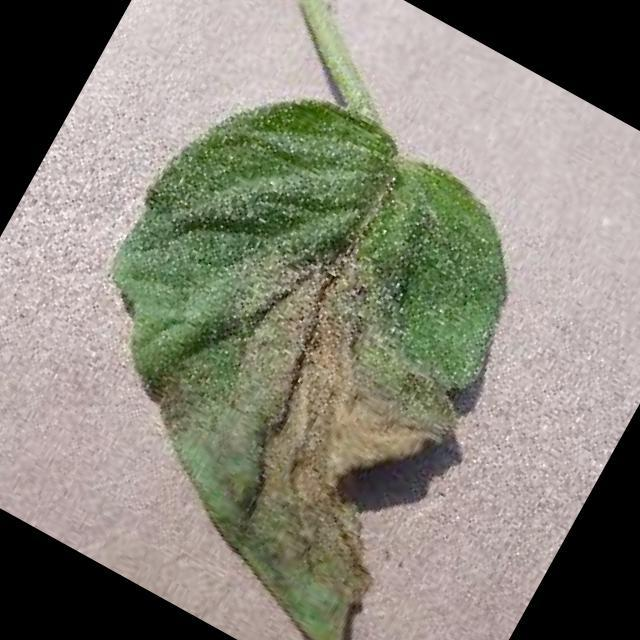Tomato late blight leaf: (0, 46, 580, 640)
